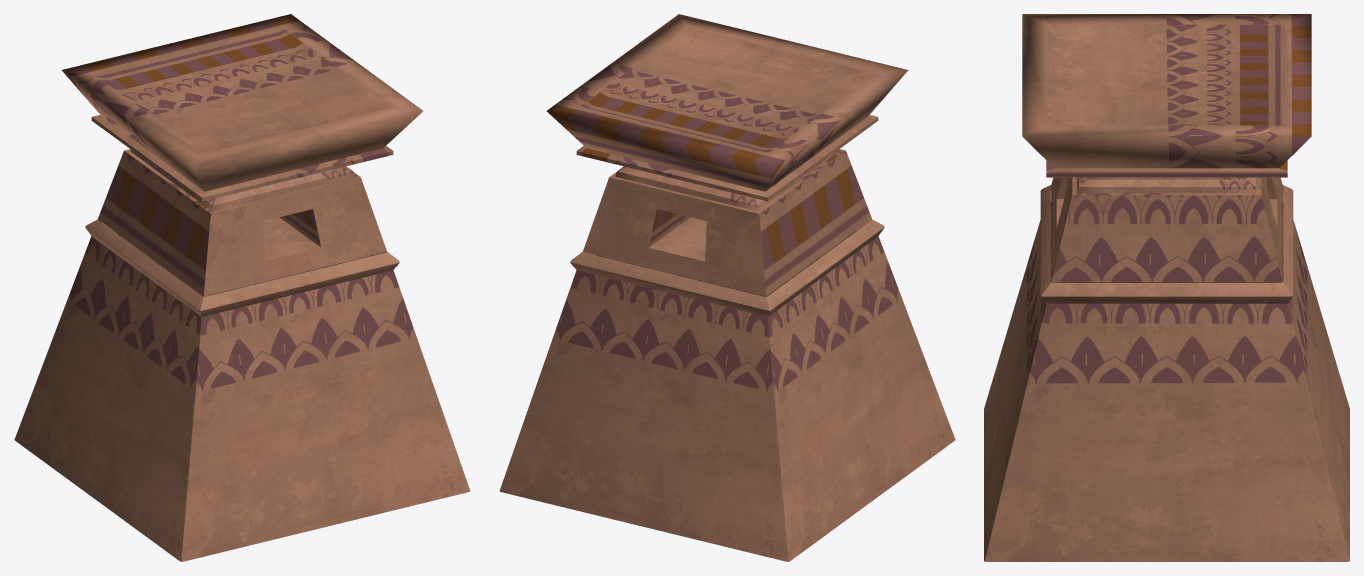
File: templeset.fbx
The picture shows the model from 3 angles, left to right: view 1: azimuth 30°, elevation 25°; view 2: azimuth 150°, elevation 25°; view 3: azimuth 270°, elevation 25°; orthographic projection. The views are drawn at different scales.
Parts seen in each view (by area): view 1: Pyramid002, Object005, Object006, Object015, Object008; view 2: Pyramid002, Object005, Object006, Object015, Object032; view 3: Pyramid002, Object005, Object006, Object015, Object034, Object033, Object035.
Boxes of the visible parts, <box> form: Pyramid002: <box>14,230,470,561</box>; Object005: <box>61,14,423,201</box>; Object006: <box>98,149,386,296</box>; Object015: <box>85,219,399,316</box>; Object008: <box>238,172,325,203</box>; Pyramid002: <box>499,230,955,561</box>; Object005: <box>546,14,908,201</box>; Object006: <box>583,149,871,296</box>; Object015: <box>570,219,884,316</box>; Object032: <box>644,172,731,203</box>; Pyramid002: <box>984,201,1349,561</box>; Object005: <box>1022,14,1311,177</box>; Object006: <box>1051,177,1282,282</box>; Object015: <box>1040,185,1293,303</box>; Object034: <box>1114,177,1219,193</box>; Object033: <box>1219,177,1256,193</box>; Object035: <box>1077,177,1114,193</box>.
Size of the model in its own units: 7456 by 7456 by 9212.
